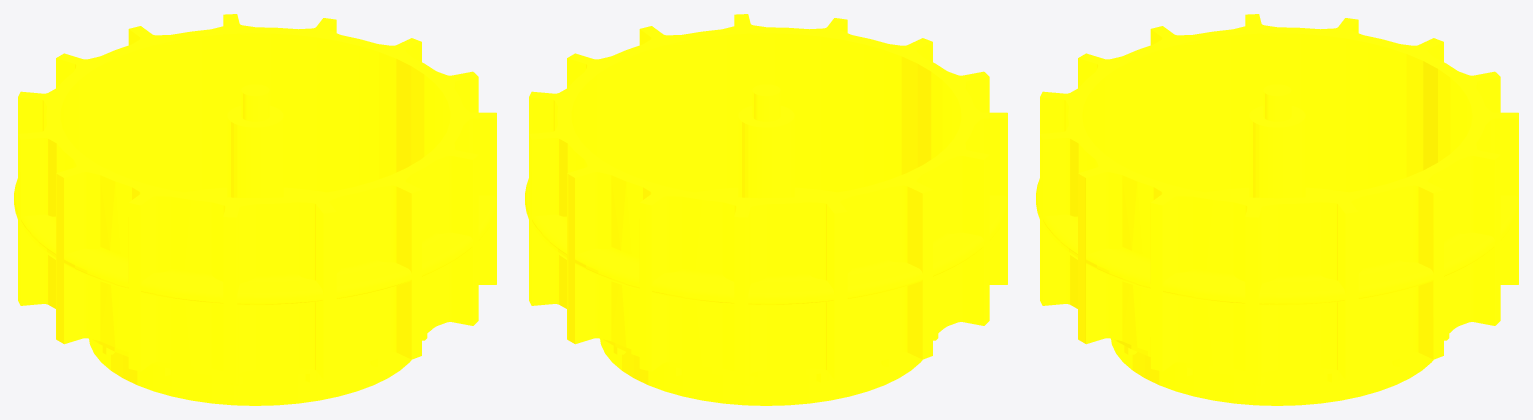
The model's file is right_drive_wheel.dae.
The picture shows the model from 3 angles, left to right: view 1: azimuth 30°, elevation 25°; view 2: azimuth 150°, elevation 25°; view 3: azimuth 270°, elevation 25°; orthographic projection.
Visible parts, largest first — view 1: right_drive_wheel; view 2: right_drive_wheel; view 3: right_drive_wheel.
Boxes of the visible parts, x1=… form: right_drive_wheel: x1=14, y1=14, x2=496, y2=405; right_drive_wheel: x1=525, y1=14, x2=1007, y2=405; right_drive_wheel: x1=1036, y1=14, x2=1518, y2=405.
Bounding box in the file's own units: 0.762 × 0.7617 × 0.4859.
